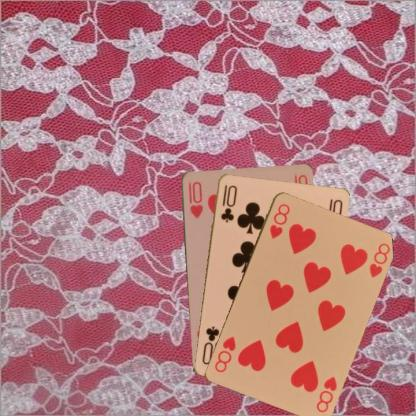10c: (218, 182, 238, 224)
10h: (185, 178, 204, 220)
8h: (313, 372, 338, 414), (266, 200, 291, 240)
